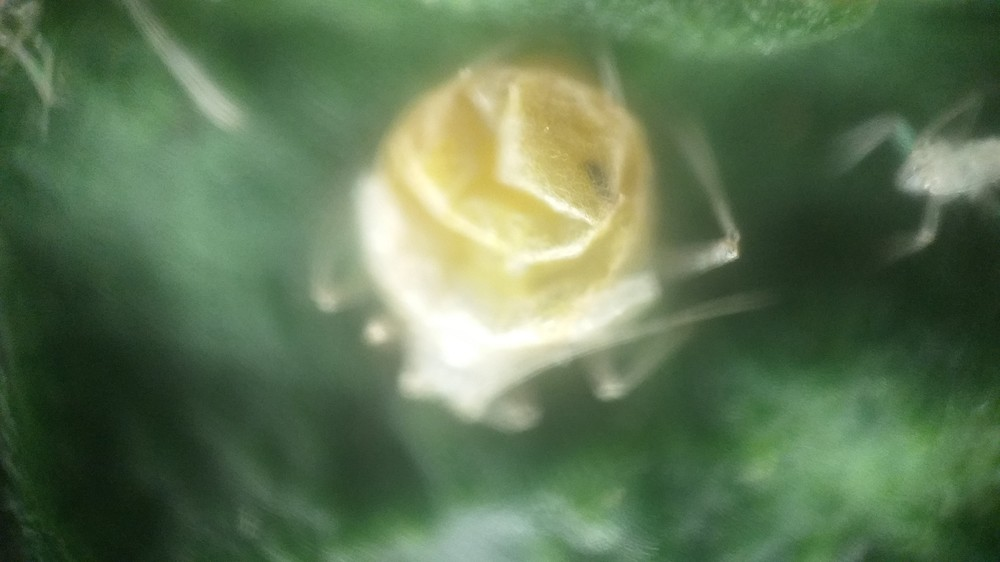Pulgon: (289, 46, 789, 473)
